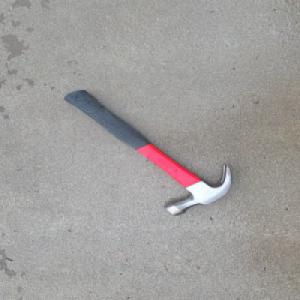Hammer: (62, 88, 234, 216)
